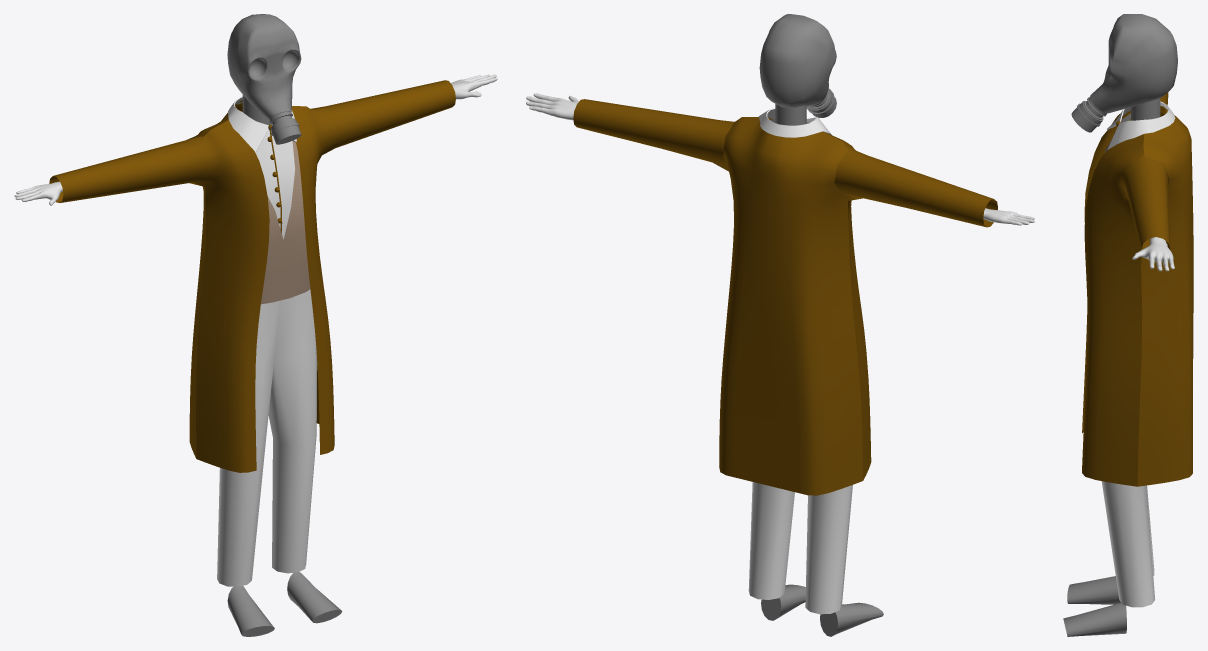
Rendered from Gonzalo.fbx.
The picture shows the model from 3 angles, left to right: view 1: azimuth 30°, elevation 25°; view 2: azimuth 150°, elevation 25°; view 3: azimuth 270°, elevation 25°; orthographic projection. The views are drawn at different scales.
Visible parts, largest first — view 1: pCylinder17; view 2: pCylinder17; view 3: pCylinder17.
Part boxes in pixels (left/top/right/bottom): pCylinder17: left=14, top=14, right=497, bottom=636; pCylinder17: left=526, top=14, right=1034, bottom=636; pCylinder17: left=1063, top=14, right=1193, bottom=636.
Size of the model in its own units: 52.06 by 60.32 by 11.88.
